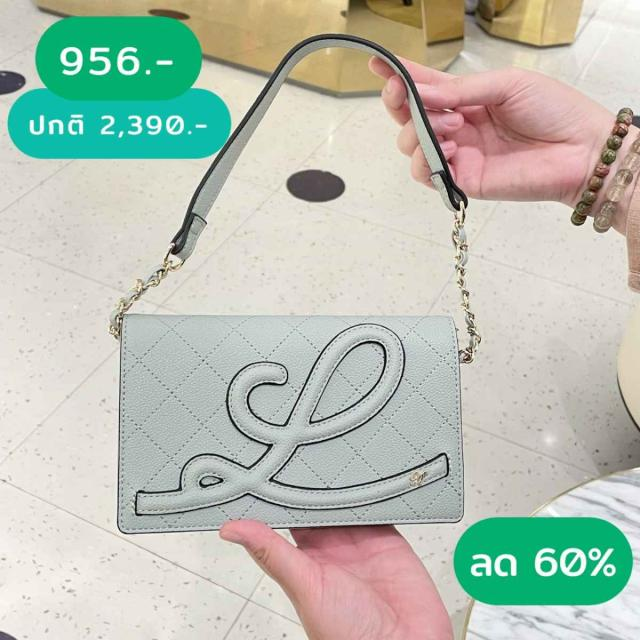Handbag: (68, 280, 481, 546)
